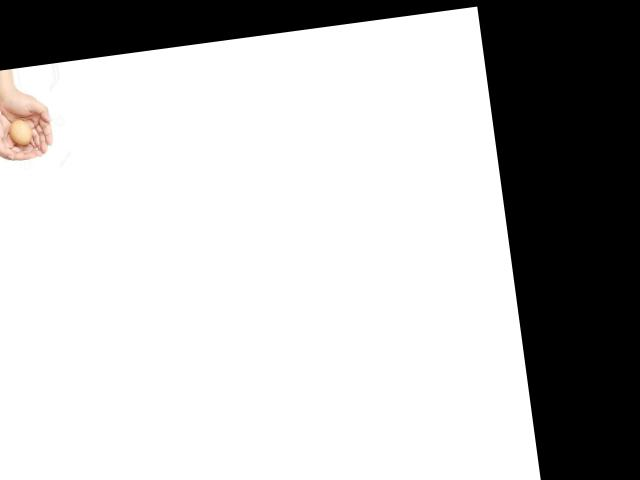egg: (7, 118, 32, 145)
